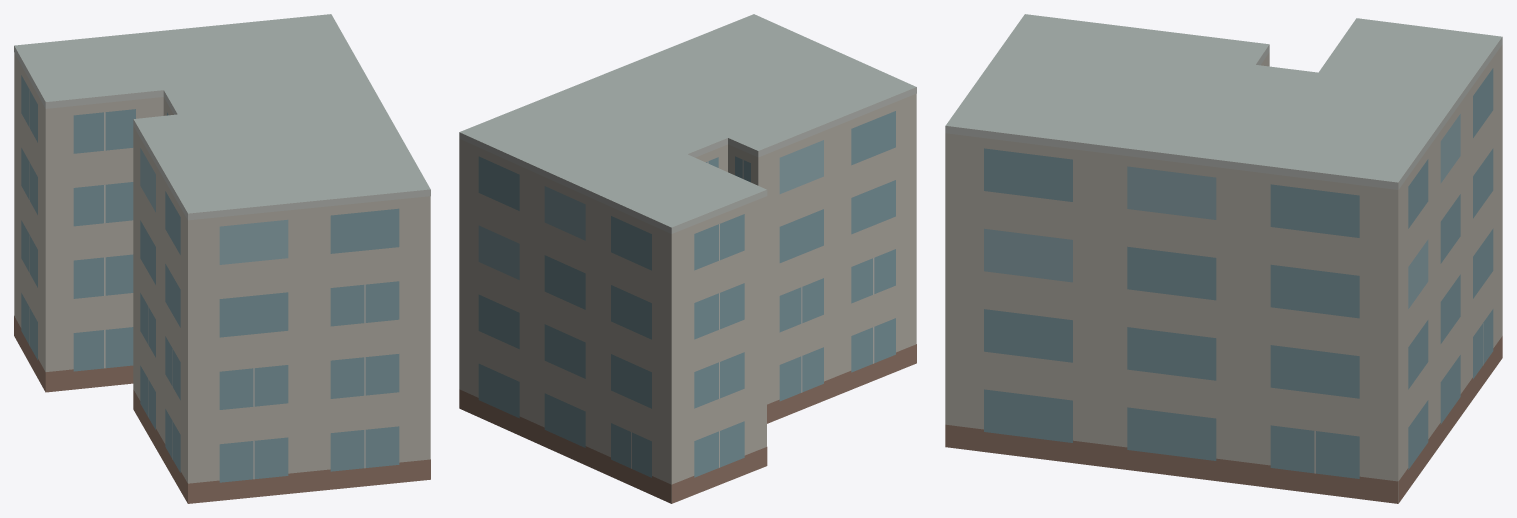
File: survey-upis-32872662.glb
3 renders of one model, left to right at view 1: azimuth 30°, elevation 25°; view 2: azimuth 150°, elevation 25°; view 3: azimuth 270°, elevation 25°, orthographic. The views are drawn at different scales.
Visible parts, largest first — view 1: survey-upis-32872662.tmp; view 2: survey-upis-32872662.tmp; view 3: survey-upis-32872662.tmp.
Boxes of the visible parts, left/top/right/bottom form: survey-upis-32872662.tmp: left=14, top=14, right=430, bottom=503; survey-upis-32872662.tmp: left=459, top=14, right=916, bottom=503; survey-upis-32872662.tmp: left=945, top=14, right=1502, bottom=503.
Bounding box in the file's own units: 11.77 × 10.45 × 16.43.
